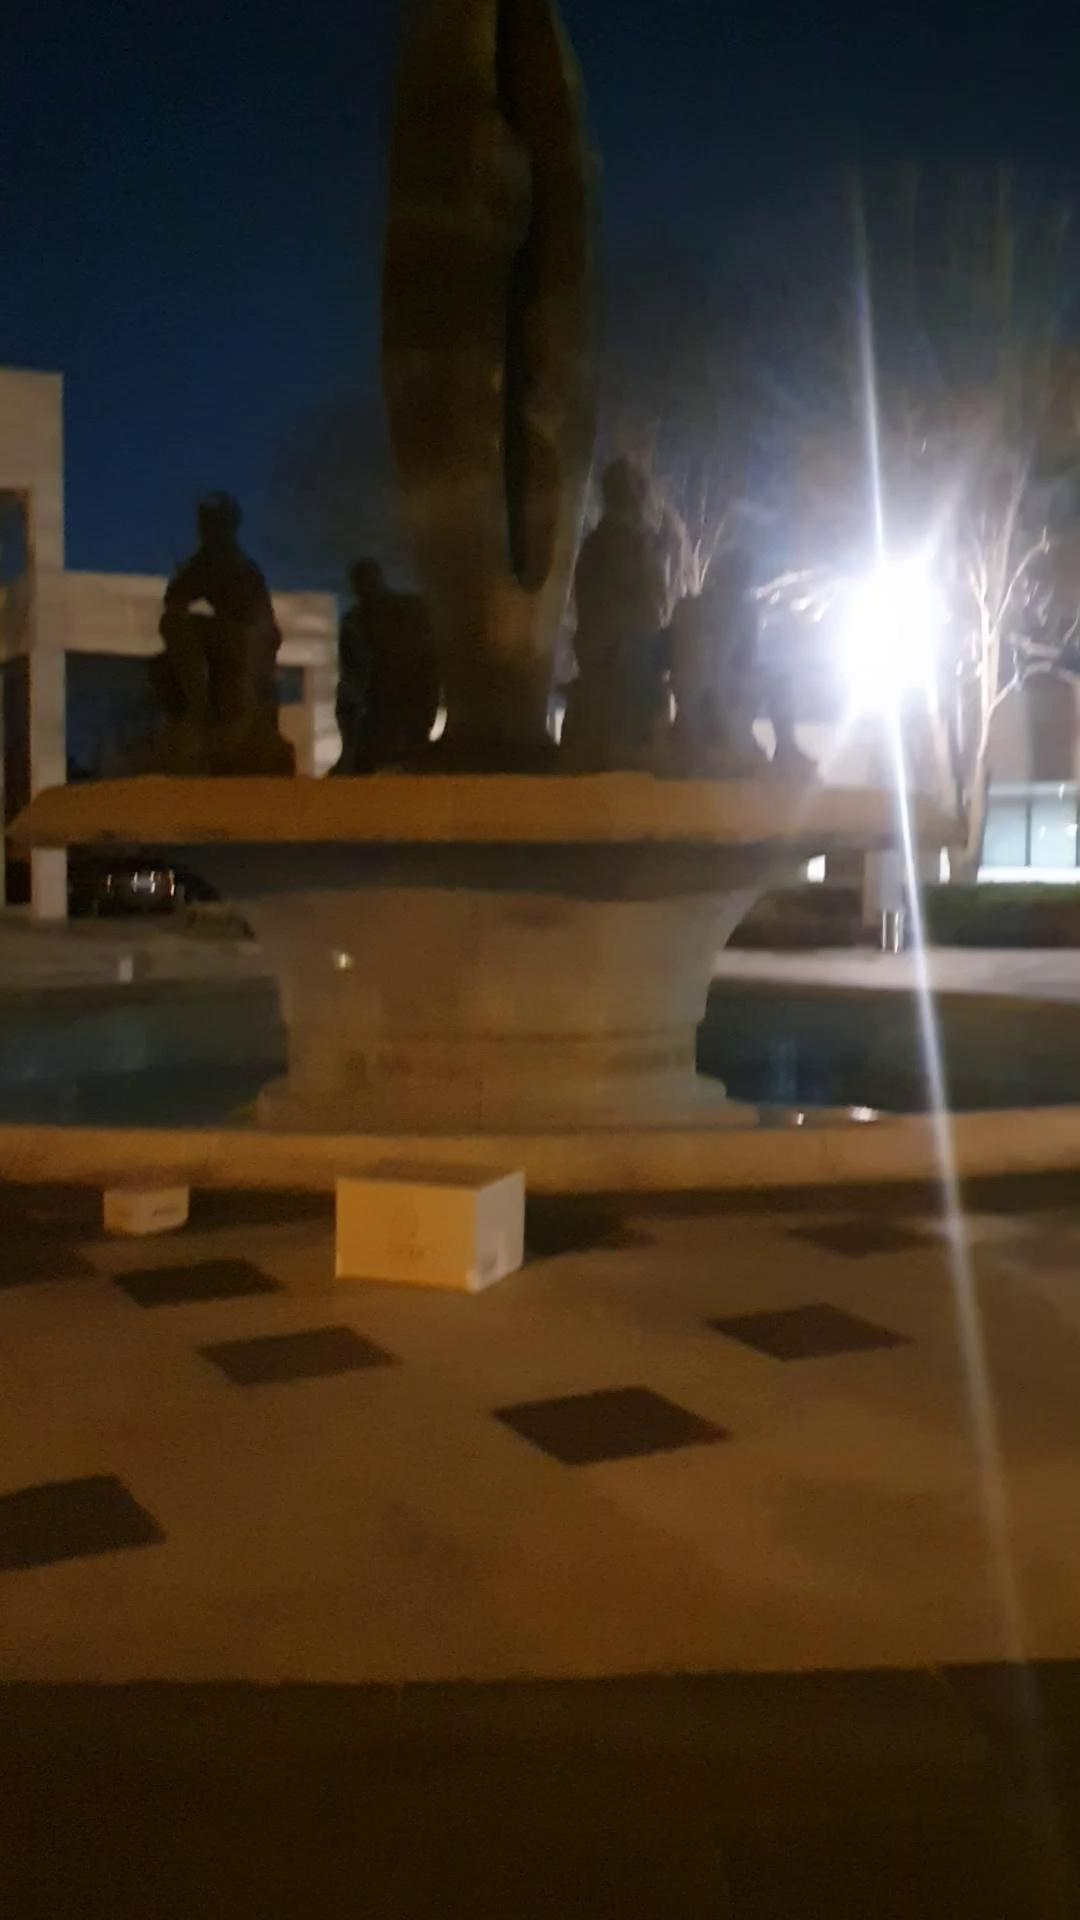Box: (323, 1163, 530, 1294), (102, 1185, 198, 1237)
